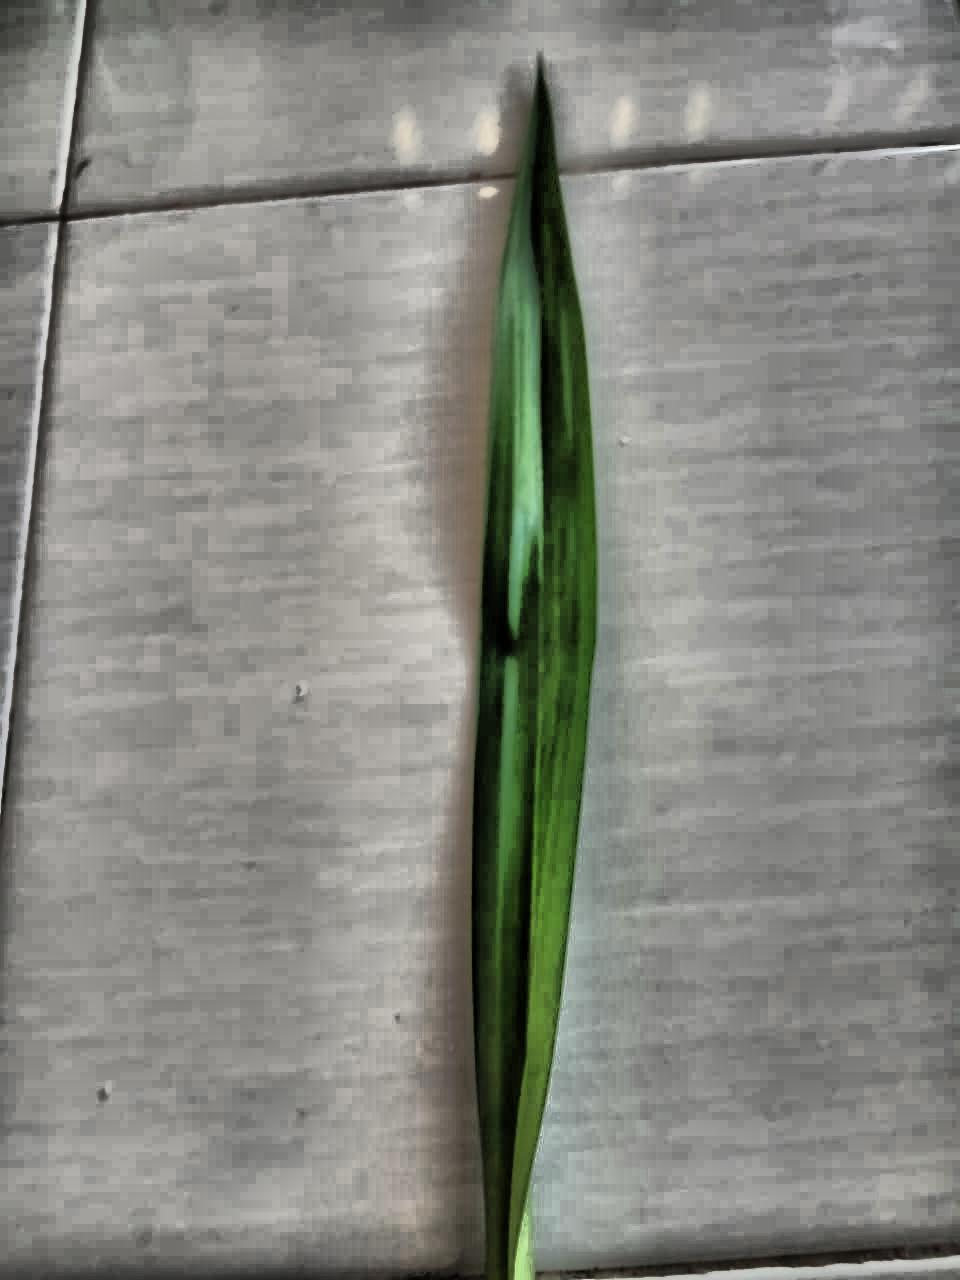daun pandan: (471, 66, 597, 1279)
